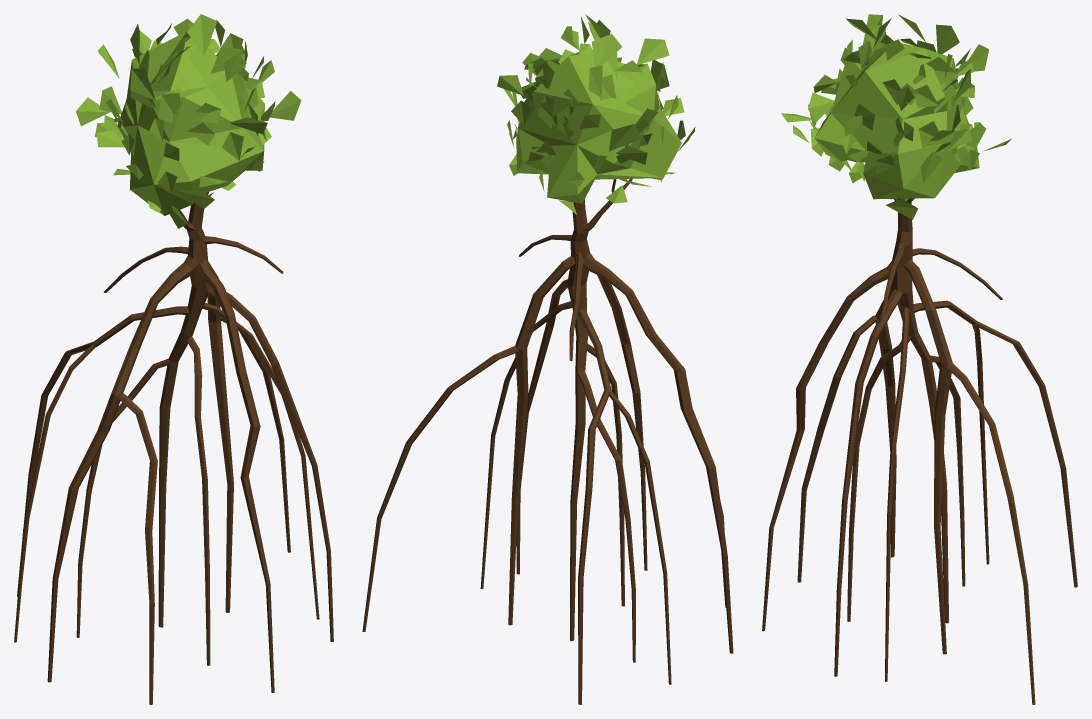
Rendered from SM_Tree_Mangrove_Mature_B.fbx.
3 views of the same model, side by side, from view 1: azimuth 30°, elevation 25°; view 2: azimuth 150°, elevation 25°; view 3: azimuth 270°, elevation 25° (orthographic). The views are drawn at different scales.
Visible parts, largest first — view 1: tree-mangrove-mature-b; view 2: tree-mangrove-mature-b; view 3: tree-mangrove-mature-b.
Boxes of the visible parts, <box> form: tree-mangrove-mature-b: <box>14,14,333,704</box>; tree-mangrove-mature-b: <box>362,14,733,704</box>; tree-mangrove-mature-b: <box>762,14,1077,704</box>.
Bounding box in the file's own units: 3.21 × 6.14 × 2.88.
